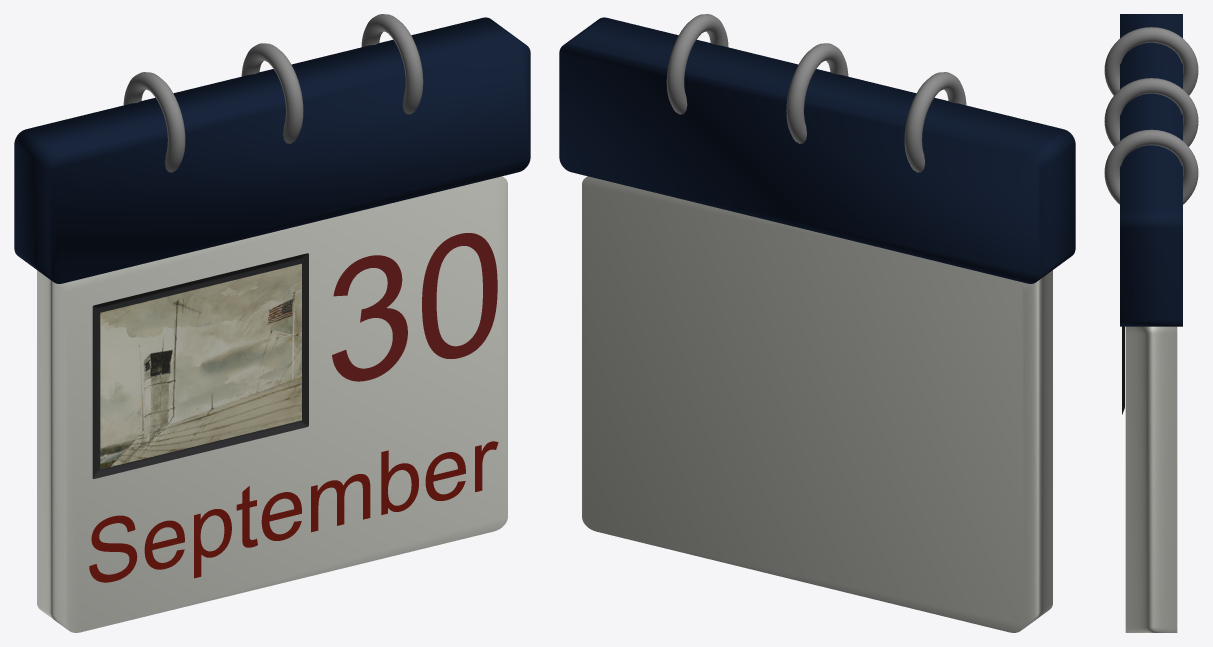
The picture shows the model from 3 angles, left to right: view 1: azimuth 30°, elevation 25°; view 2: azimuth 150°, elevation 25°; view 3: azimuth 270°, elevation 25°; orthographic projection. The views are drawn at different scales.
Visible parts, largest first — view 1: bottom, top, image_of_day, month, day, image_of_day_background, spiral.001, spiral.002, spiral; view 2: bottom, top, spiral.001, spiral.002, spiral; view 3: top, bottom, spiral.002, spiral.001, spiral, image_of_day_background.
Part boxes in pixels (<box>): bottom: <box>37,176,507,632</box>; top: <box>14,17,530,283</box>; image_of_day: <box>100,263,301,469</box>; month: <box>89,441,498,582</box>; day: <box>332,233,497,381</box>; image_of_day_background: <box>92,253,308,478</box>; spiral.001: <box>241,43,303,143</box>; spiral.002: <box>361,14,423,114</box>; spiral: <box>123,72,185,172</box>; bottom: <box>582,176,1052,632</box>; top: <box>559,17,1075,283</box>; spiral.001: <box>786,43,848,143</box>; spiral.002: <box>666,14,728,114</box>; spiral: <box>904,72,966,172</box>; top: <box>1120,14,1182,326</box>; bottom: <box>1125,326,1177,632</box>; spiral.002: <box>1104,129,1198,204</box>; spiral.001: <box>1104,78,1198,146</box>; spiral: <box>1104,27,1198,95</box>; image_of_day_background: <box>1122,326,1124,414</box>.
Size of what is drawn, in the model's own units: 2.17 by 2.27 by 0.4169.
7 materials, 1 textured.
